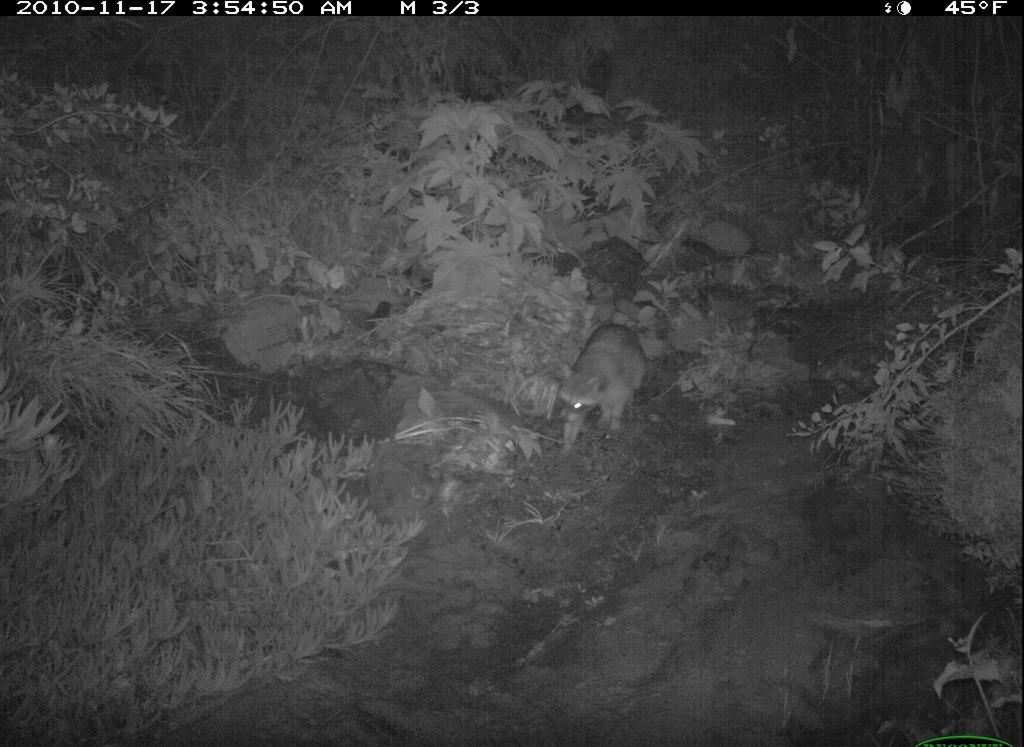raccoon: (546, 317, 666, 459)
